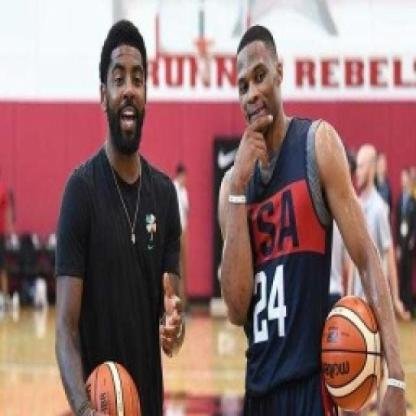basketball: (317, 289, 390, 416), (76, 357, 146, 416)
